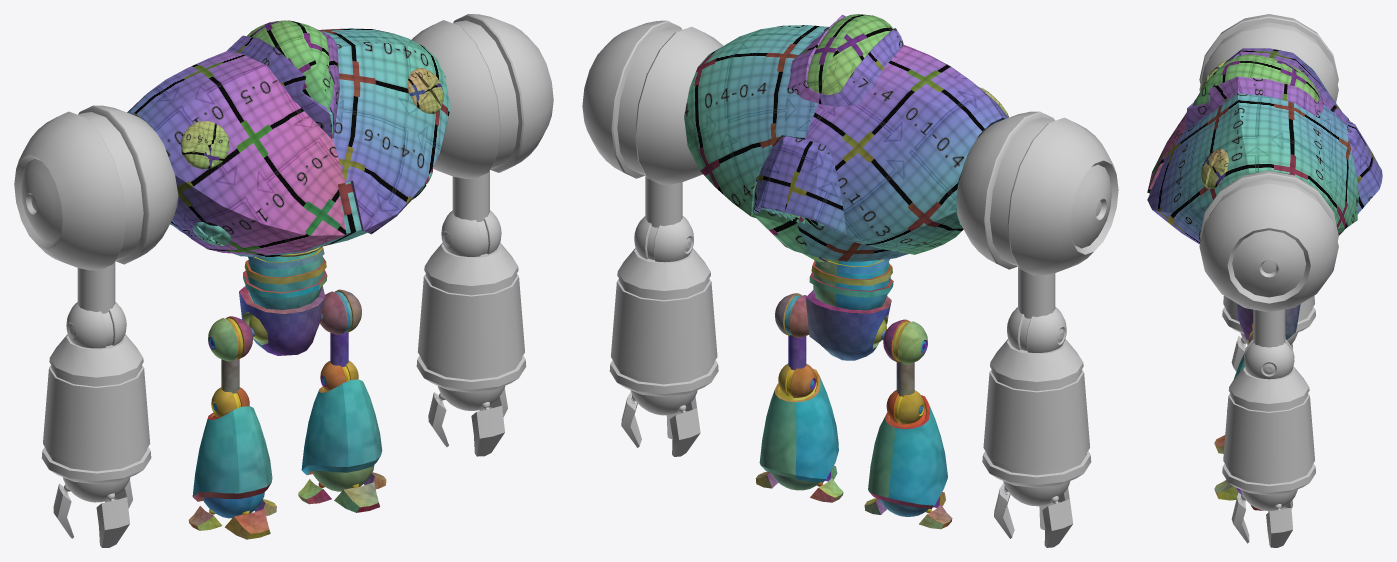
File: Robot_textures_03.fbx
3 views of the same model, side by side, from view 1: azimuth 30°, elevation 25°; view 2: azimuth 150°, elevation 25°; view 3: azimuth 270°, elevation 25° (orthographic). The views are drawn at different scales.
Parts seen in each view (by area): view 1: Chest_Geo, R_Shoulder_Geo, L_Shoulder_Geo, L_Elbow_Geo, R_Elbow_Geo, L_Shin_Geo, R_Shin_Geo, Spine_Geo, Pelvis_Geo, R_Femur_Geo, L_Femur_Geo, L_Finger_02_Geo (+7 smaller); view 2: Chest_Geo, R_Shoulder_Geo, L_Shoulder_Geo, L_Elbow_Geo, R_Elbow_Geo, L_Shin_Geo, R_Shin_Geo, Pelvis_Geo, Spine_Geo, R_Femur_Geo, L_Femur_Geo, L_Finger_01_Geo (+5 smaller); view 3: Chest_Geo, L_Shoulder_Geo, L_Elbow_Geo, R_Shoulder_Geo, R_Elbow_Geo, L_Finger_03_Geo, Pelvis_Geo, L_Wrist_Geo, L_Finger_02_Geo, L_Toe_02_Geo, R_Finger_02_Geo.
Boxes of the visible parts, left/top/right/bottom form: Chest_Geo: left=127, top=20, right=450, bottom=257; R_Shoulder_Geo: left=14, top=105, right=178, bottom=313; L_Shoulder_Geo: left=411, top=14, right=553, bottom=221; L_Elbow_Geo: left=416, top=210, right=526, bottom=392; R_Elbow_Geo: left=41, top=302, right=151, bottom=484; L_Shin_Geo: left=301, top=360, right=382, bottom=474; R_Shin_Geo: left=192, top=387, right=272, bottom=501; Spine_Geo: left=243, top=246, right=327, bottom=309; Pelvis_Geo: left=239, top=286, right=325, bottom=355; R_Femur_Geo: left=208, top=316, right=252, bottom=393; L_Femur_Geo: left=320, top=289, right=361, bottom=367; L_Finger_02_Geo: left=471, top=402, right=504, bottom=456; Chest_Geo: left=684, top=14, right=1008, bottom=262; R_Shoulder_Geo: left=957, top=111, right=1118, bottom=318; L_Shoulder_Geo: left=582, top=20, right=722, bottom=227; L_Elbow_Geo: left=609, top=216, right=718, bottom=397; R_Elbow_Geo: left=982, top=307, right=1091, bottom=487; L_Shin_Geo: left=759, top=363, right=838, bottom=482; R_Shin_Geo: left=868, top=390, right=947, bottom=508; Pelvis_Geo: left=805, top=290, right=891, bottom=360; Spine_Geo: left=809, top=258, right=893, bottom=310; R_Femur_Geo: left=883, top=319, right=927, bottom=396; L_Femur_Geo: left=775, top=293, right=809, bottom=370; L_Finger_01_Geo: left=669, top=405, right=700, bottom=456; Chest_Geo: left=1147, top=48, right=1382, bottom=244; L_Shoulder_Geo: left=1199, top=170, right=1338, bottom=347; L_Elbow_Geo: left=1222, top=339, right=1315, bottom=495; R_Shoulder_Geo: left=1199, top=14, right=1338, bottom=102; R_Elbow_Geo: left=1222, top=295, right=1315, bottom=334; L_Finger_03_Geo: left=1266, top=504, right=1292, bottom=547; Pelvis_Geo: left=1237, top=303, right=1300, bottom=339; L_Wrist_Geo: left=1240, top=489, right=1297, bottom=510; L_Finger_02_Geo: left=1231, top=492, right=1249, bottom=543; L_Toe_02_Geo: left=1214, top=479, right=1241, bottom=500; R_Finger_02_Geo: left=1231, top=336, right=1245, bottom=371.
Size of the model in its own units: 268 by 245 by 126.
